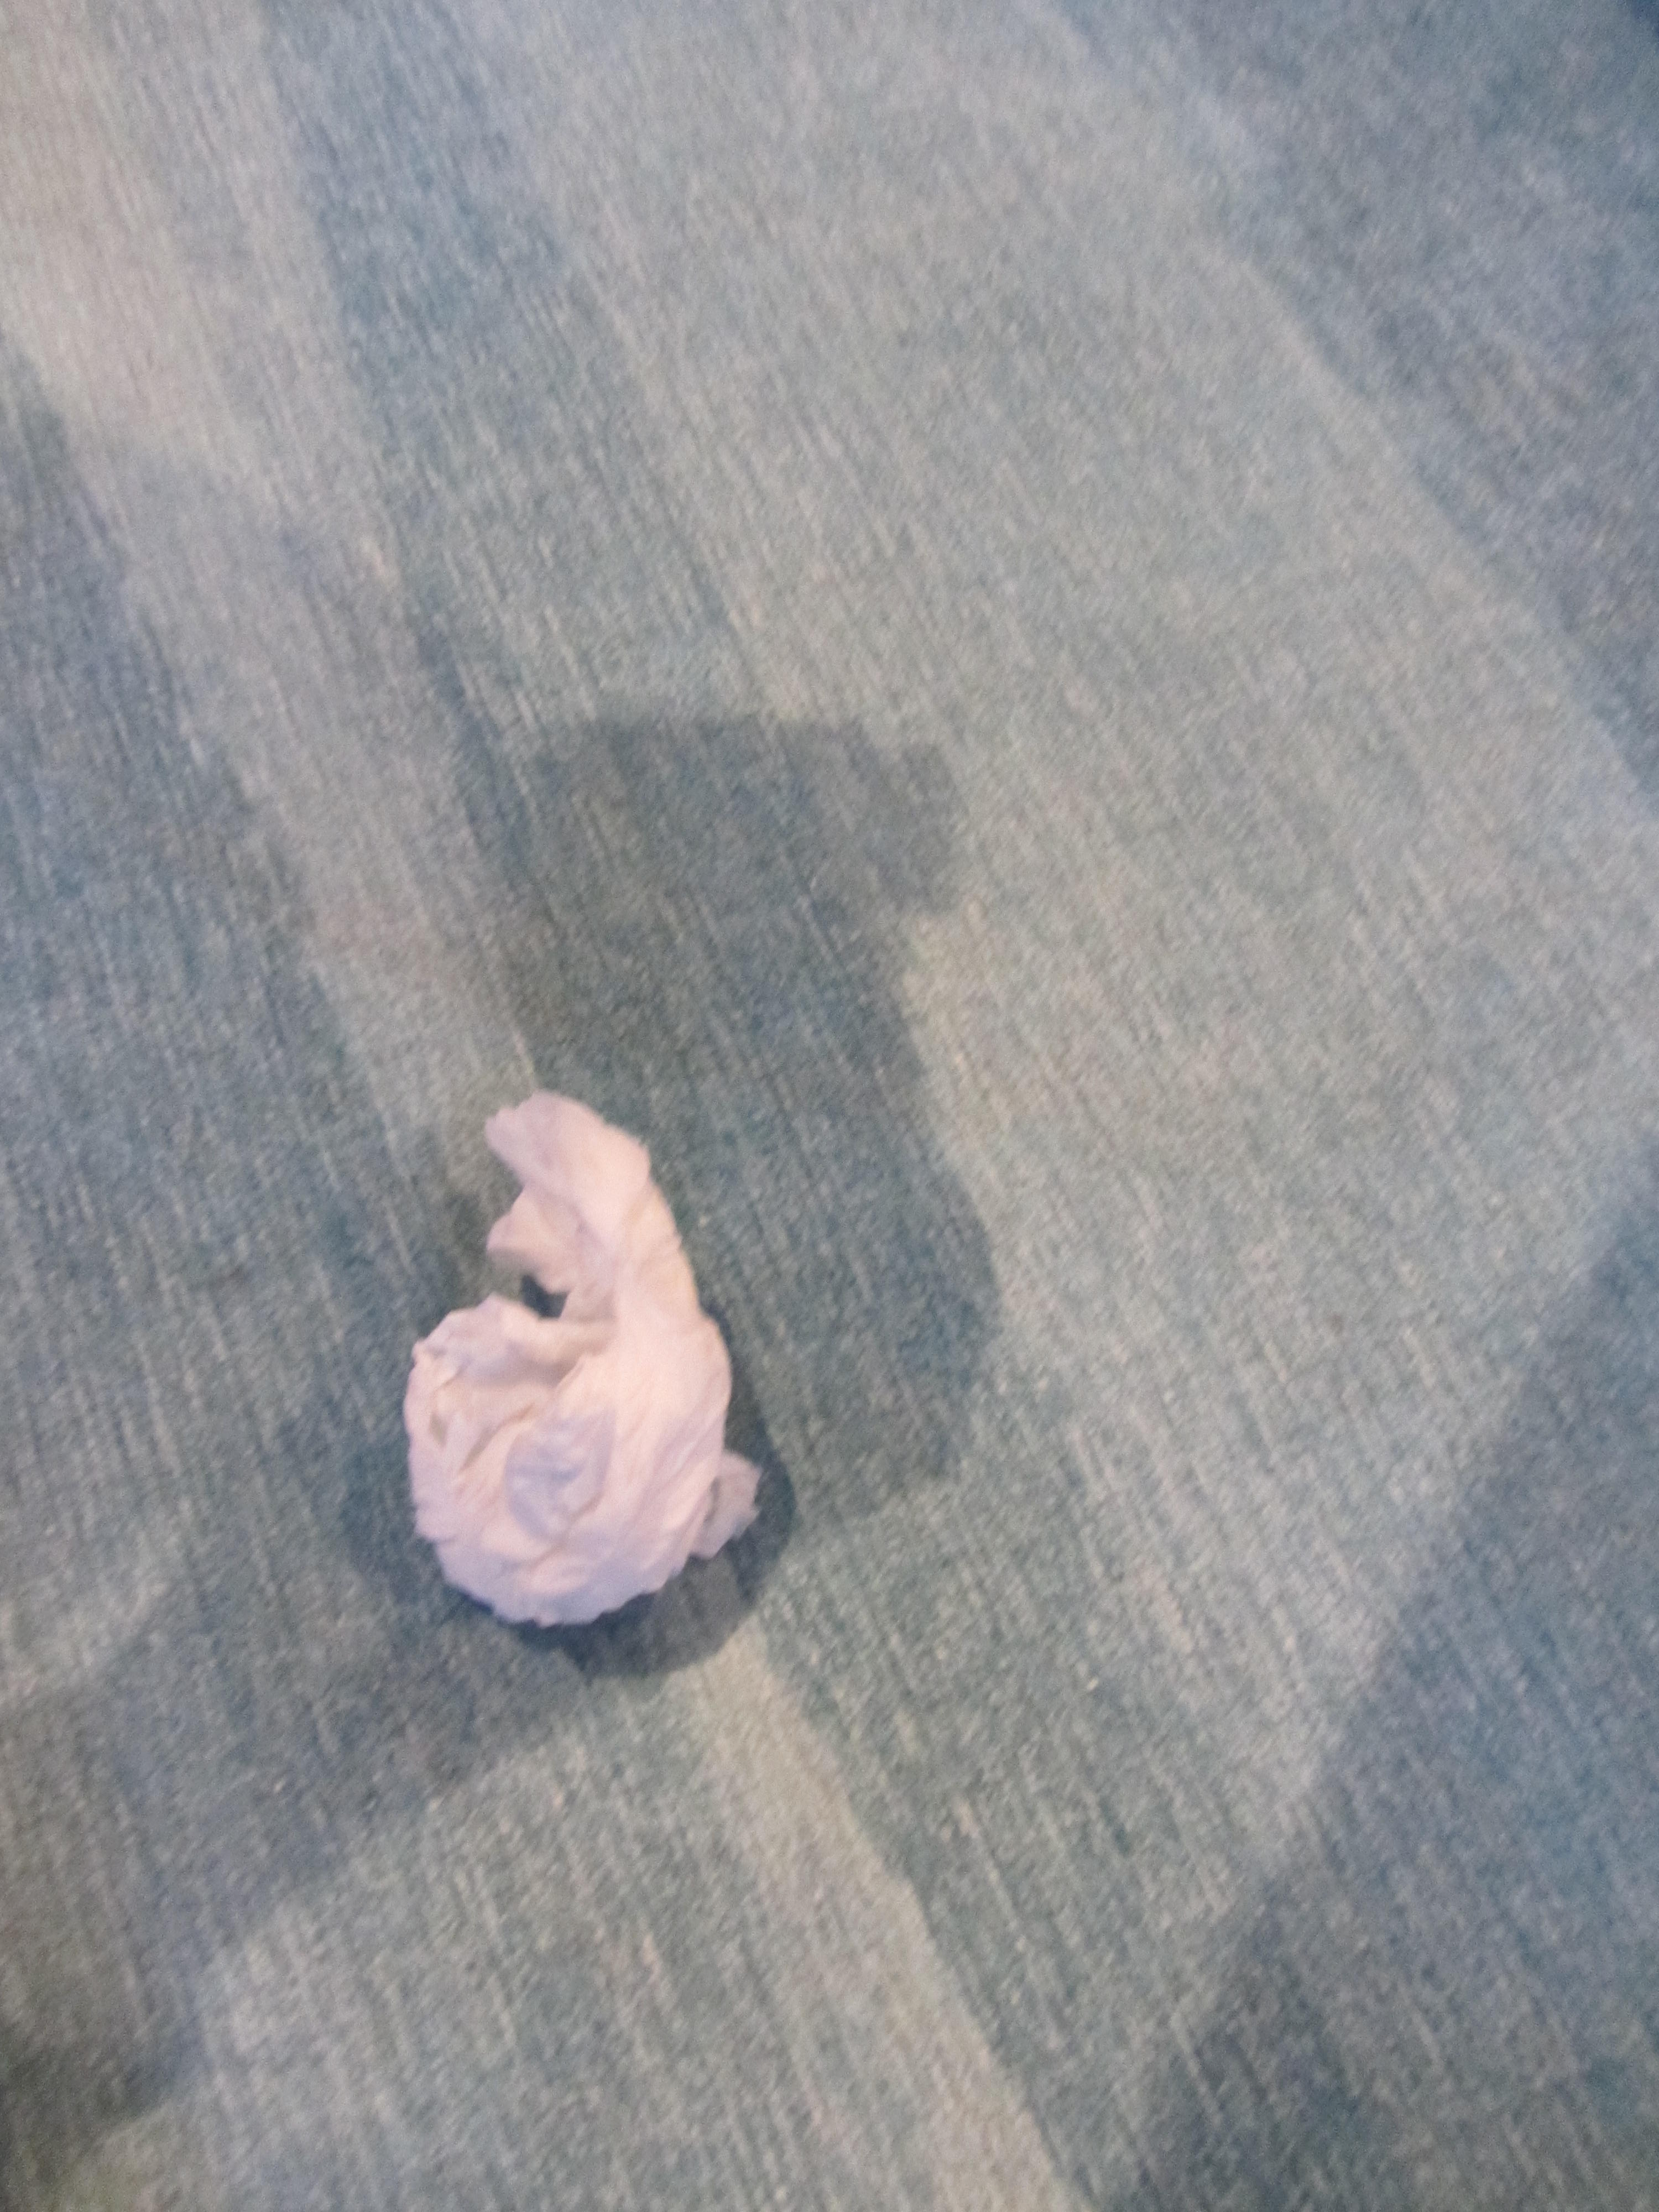tissue: (385, 1062, 751, 1622)
